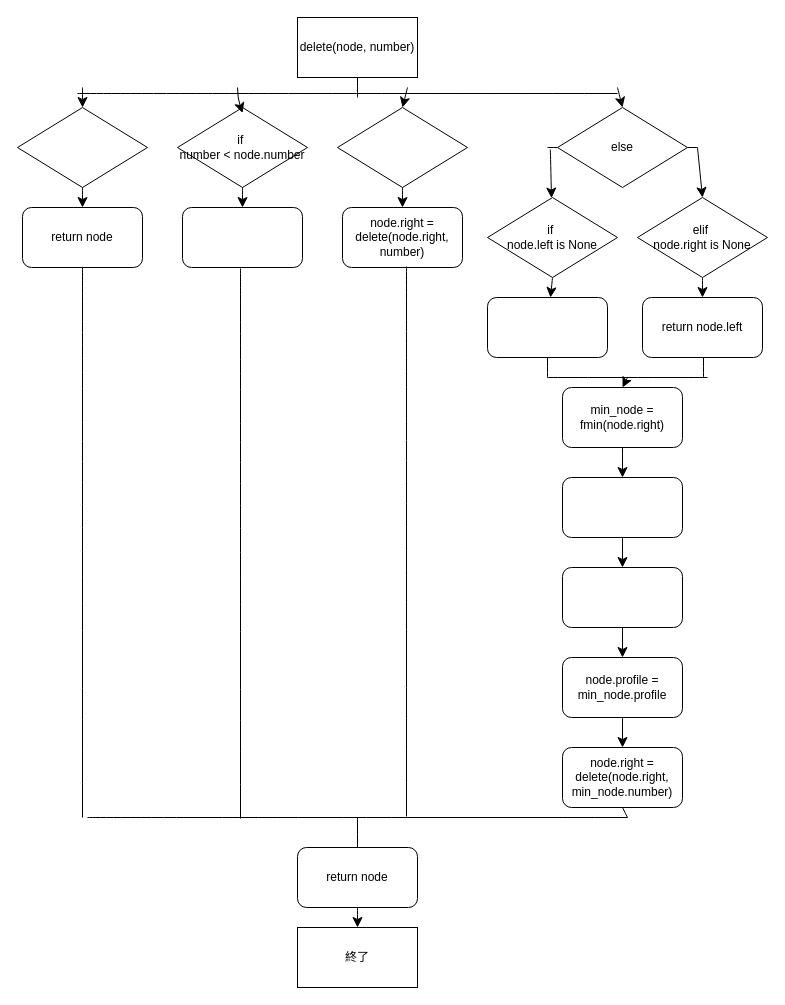
Some shapes in this 785 by 1005 pixel diagram are drawn without their labels. Here are the shapes that lost their labels. From the top down, the centre of each, then its label:
At [82,147]: "if node is None".
At [402,147]: "elif number > node.number".
At [242,237]: "node.left = delete(node.left, number)".
At [547,327]: "return node.right".
At [622,507]: "node.number = min_node.number".
At [622,597]: "node.name = min_node.name".
